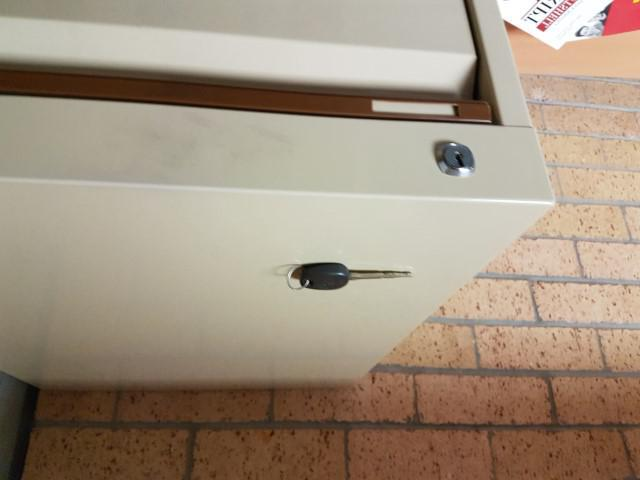key: (300, 262, 412, 290)
